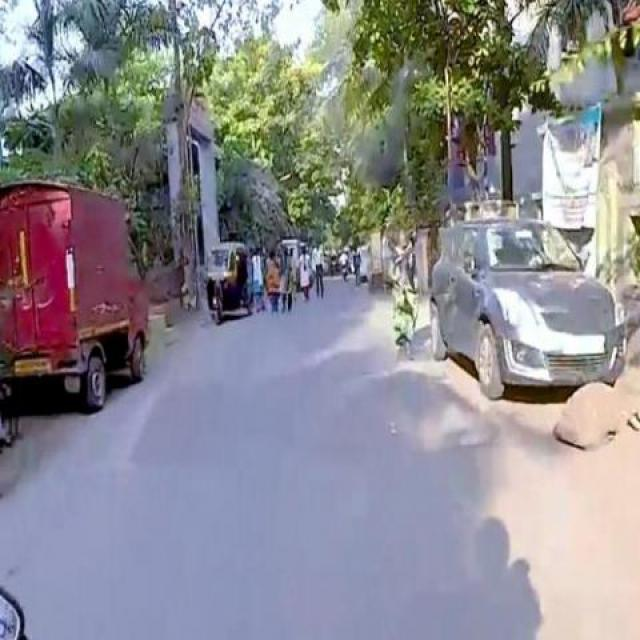Unmarked Bump: (107, 368, 474, 476)
